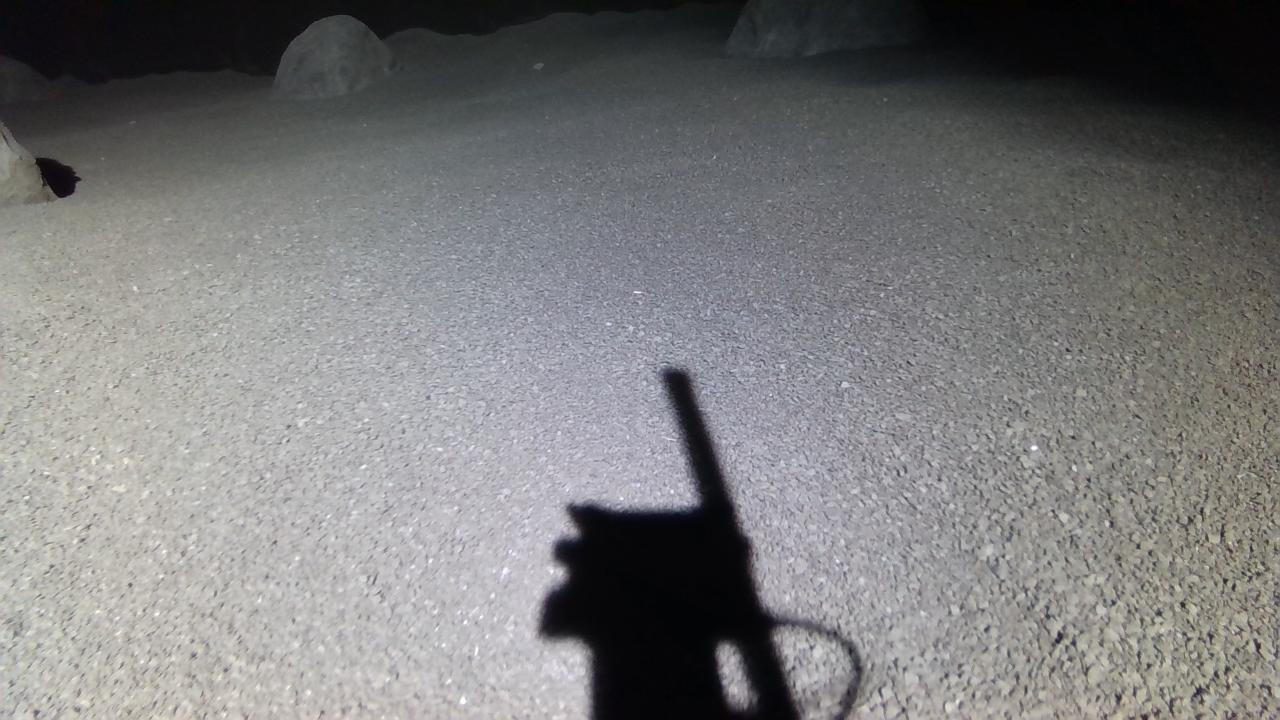rock: (271, 14, 392, 97)
